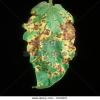Tomato Septoria leaf spot: (20, 1, 80, 90)
